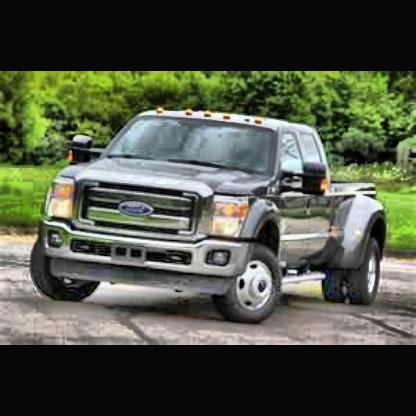Ford F-450 Super Duty Crew Cab 2012: (32, 107, 391, 323)
